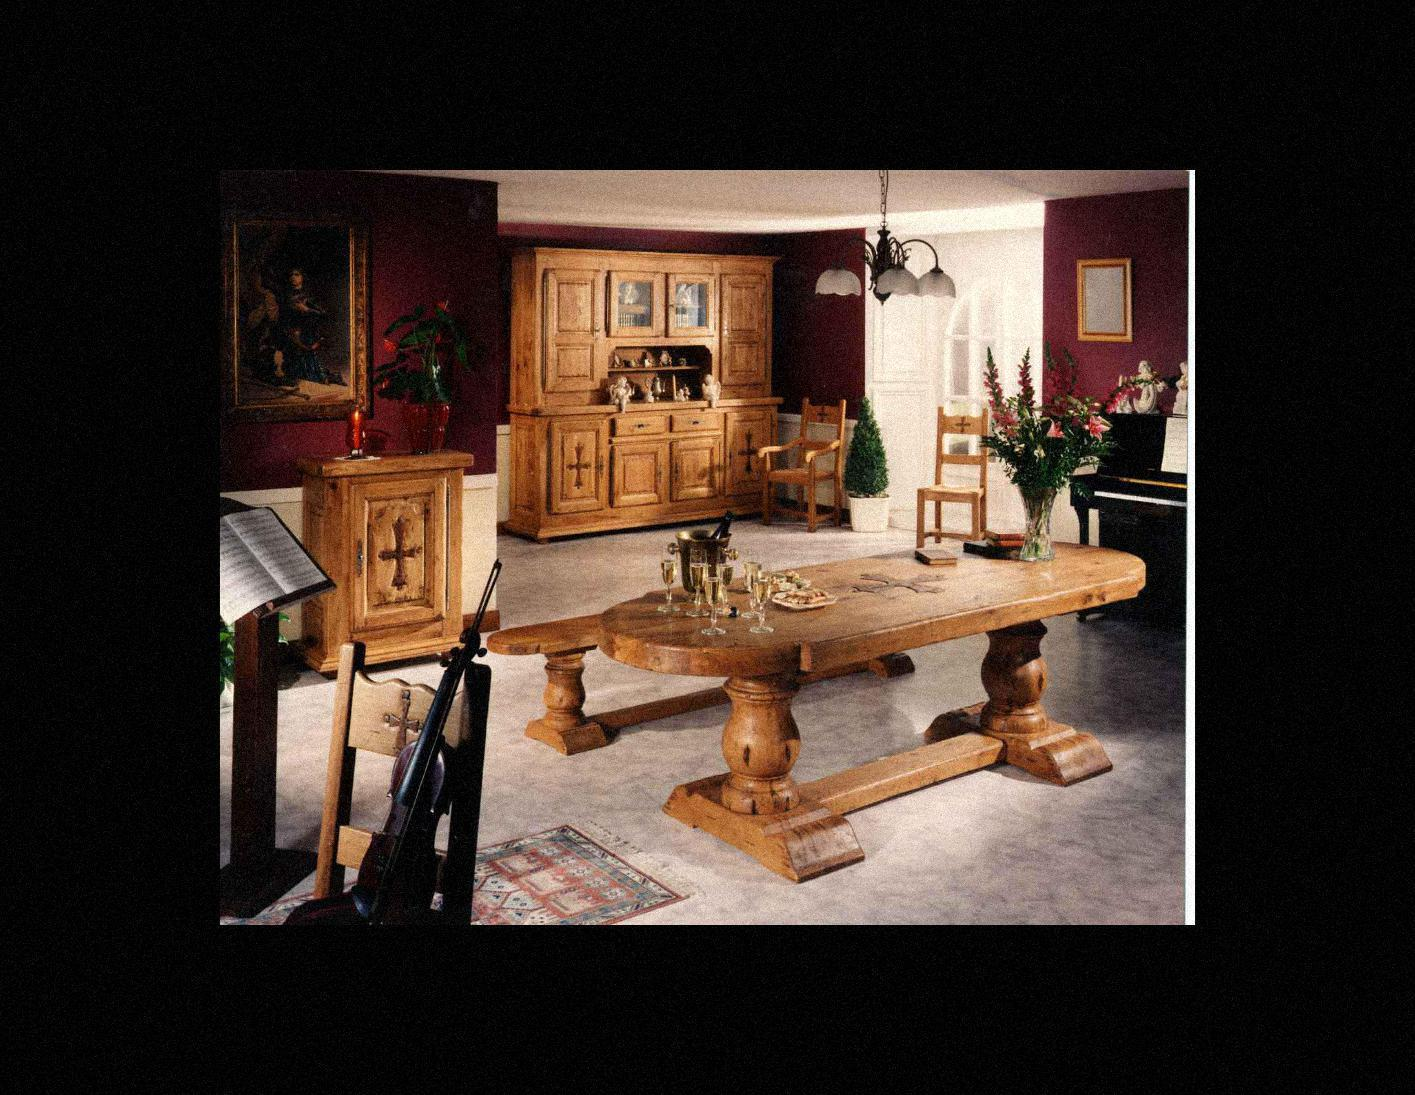Matera: (838, 398, 900, 533)
Otro Obstaculo: (229, 493, 320, 890)
